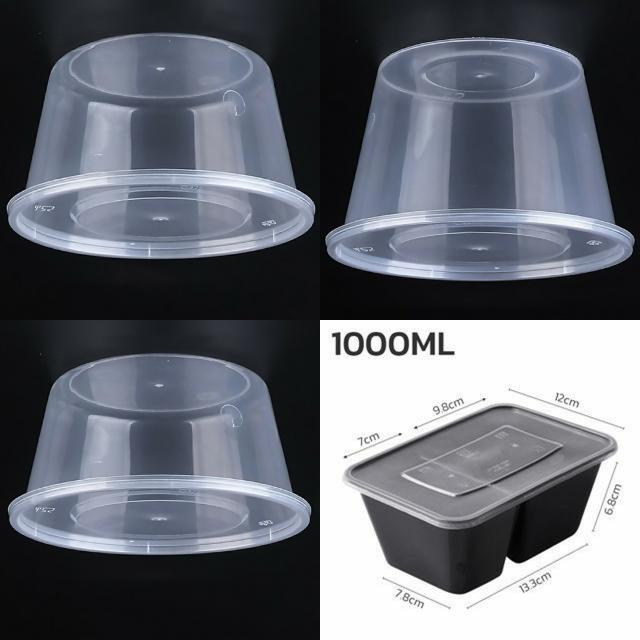Single-Use-Plastic: (328, 39, 632, 280), (8, 35, 315, 258), (9, 354, 309, 554), (345, 405, 616, 593)
